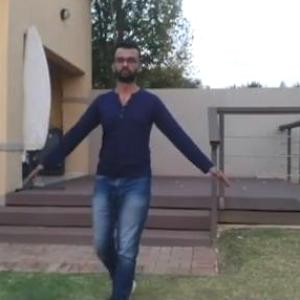land: (48, 51, 224, 298)
